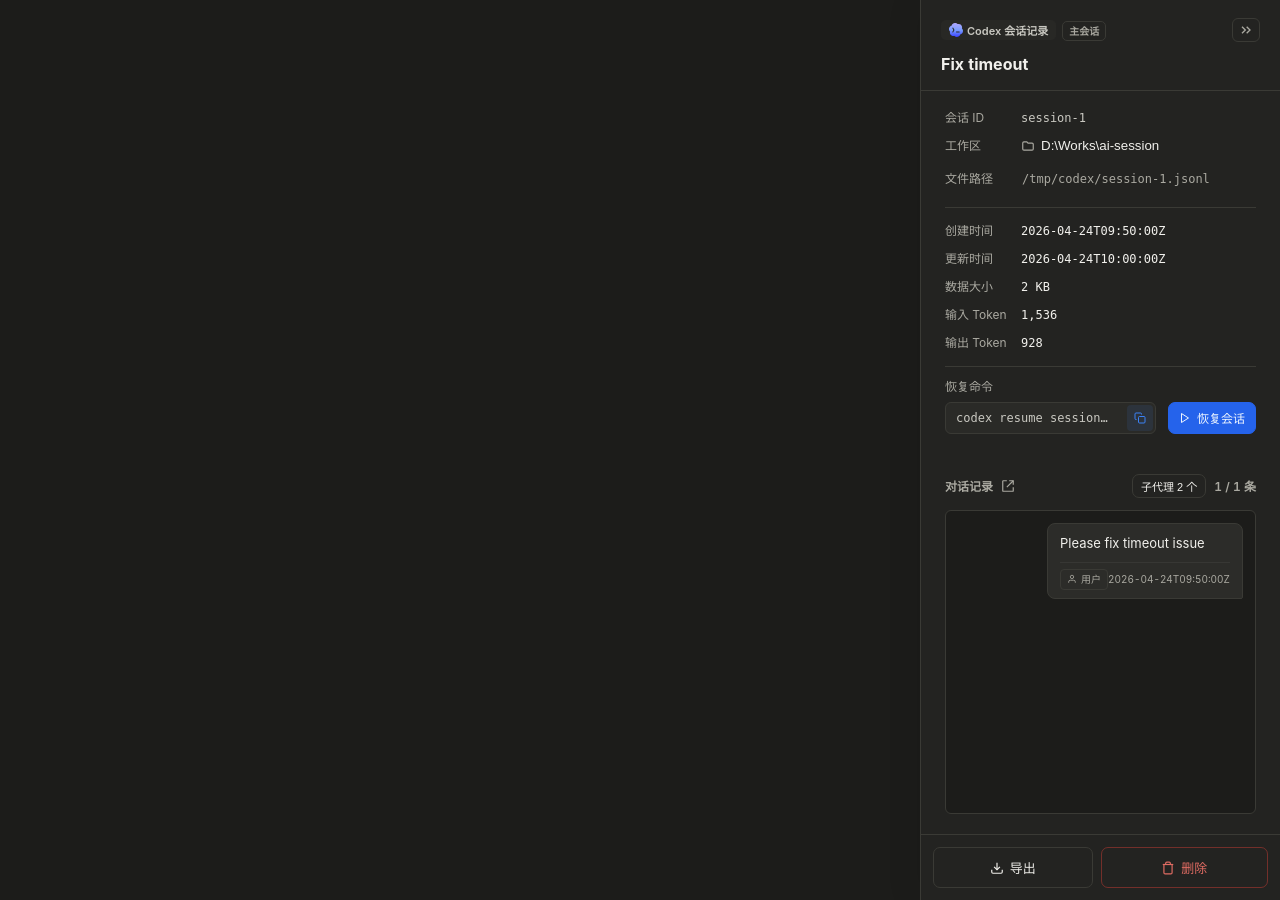
it: loads and switches subagent details inside the summary modal
Click the button with aria-label "open-subagent-summary" at (1169, 486), box [1132, 474, 1206, 498]
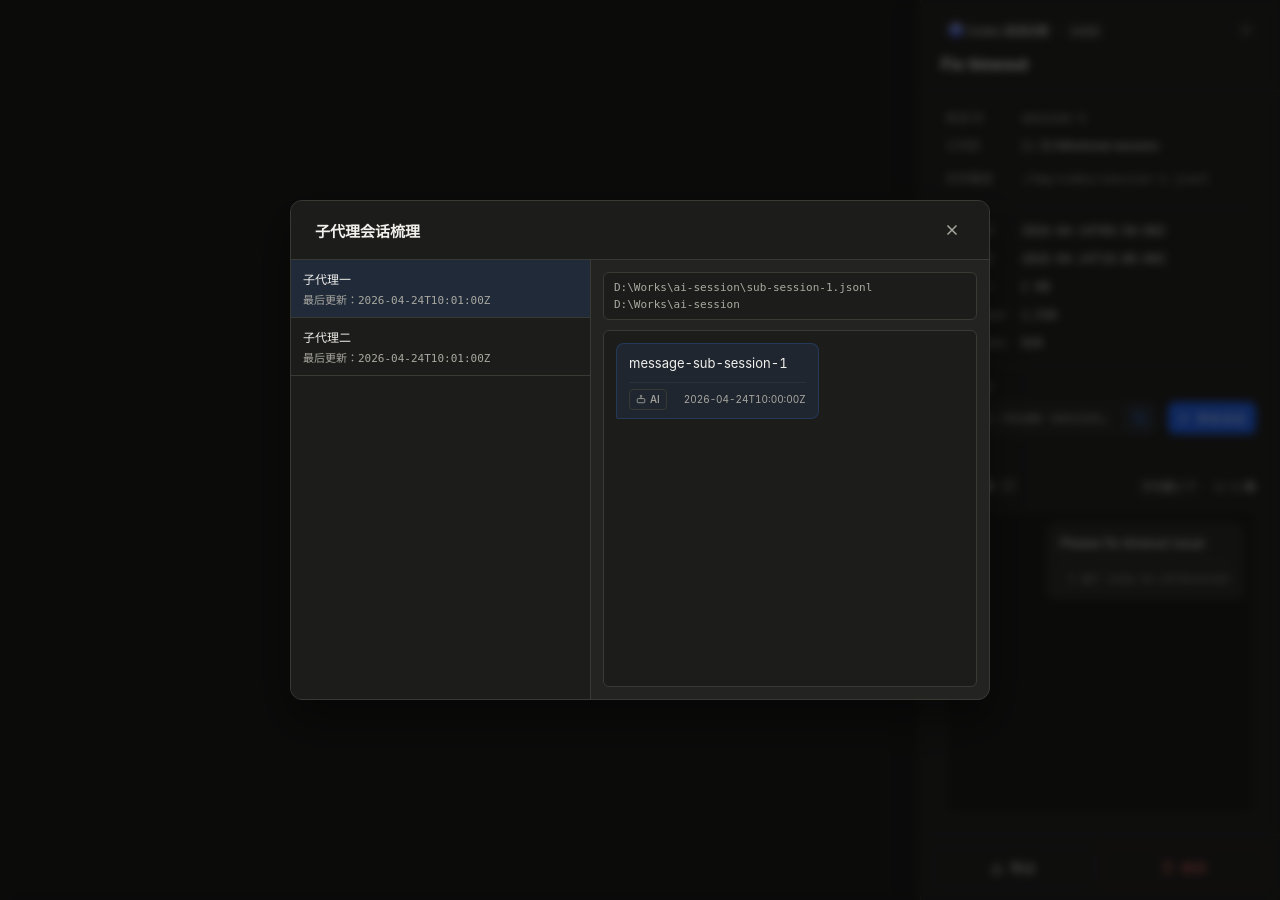
Expected: the text "message-sub-session-1" is shown, [629, 354, 788, 374]
Click the button with aria-label "open-subagent-sub-session-2" at (327, 338), box [291, 318, 590, 376]
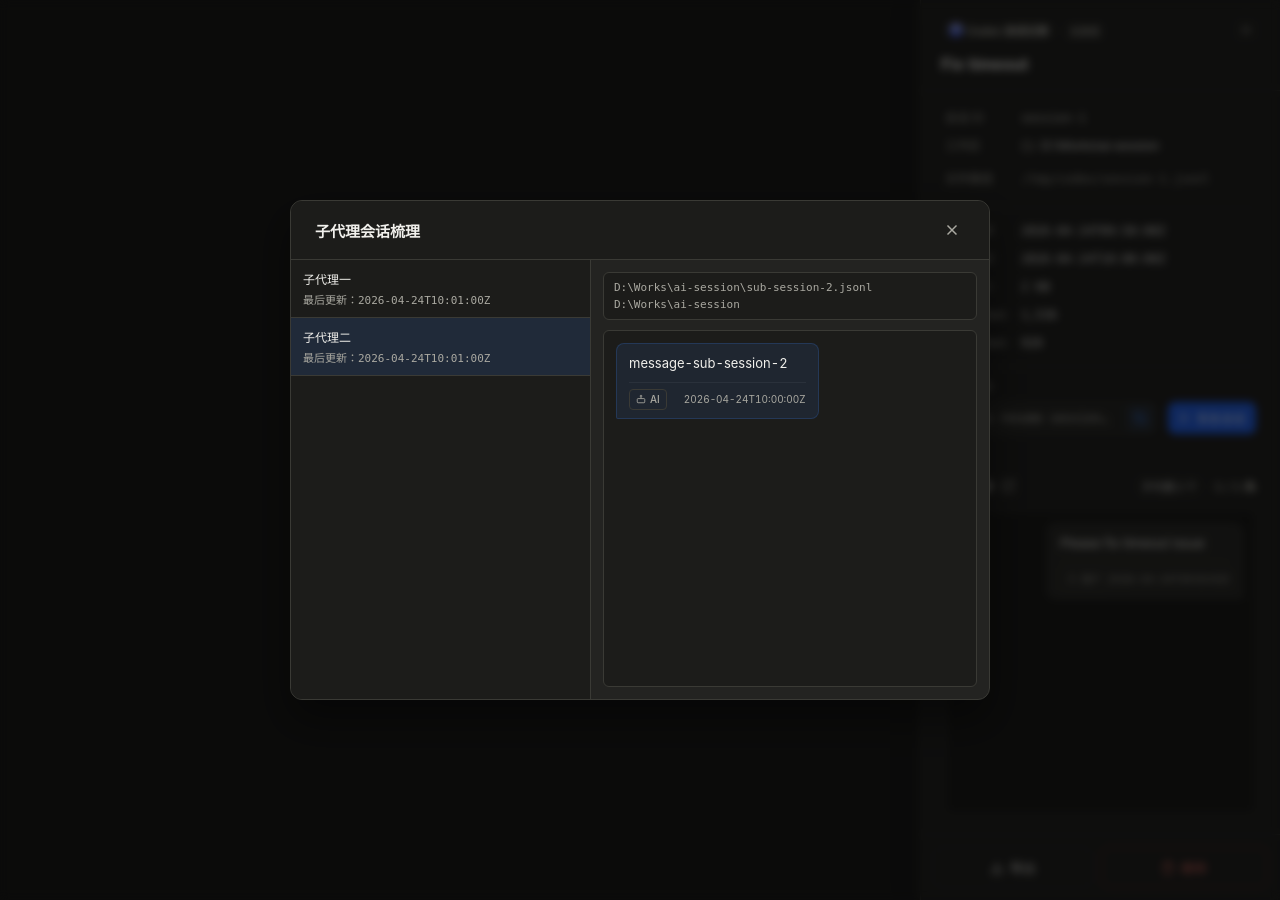
Expected: the text "message-sub-session-2" is shown, [629, 354, 788, 374]
